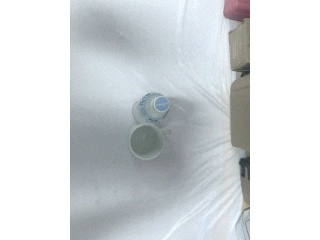bottle: (131, 88, 171, 125)
cup: (127, 125, 168, 162)
